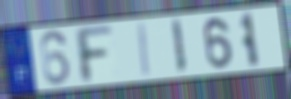1: (238, 10, 262, 71)
6: (39, 28, 72, 87), (201, 15, 235, 71)
F: (71, 25, 116, 86)
I: (169, 17, 189, 76), (137, 21, 153, 79)
